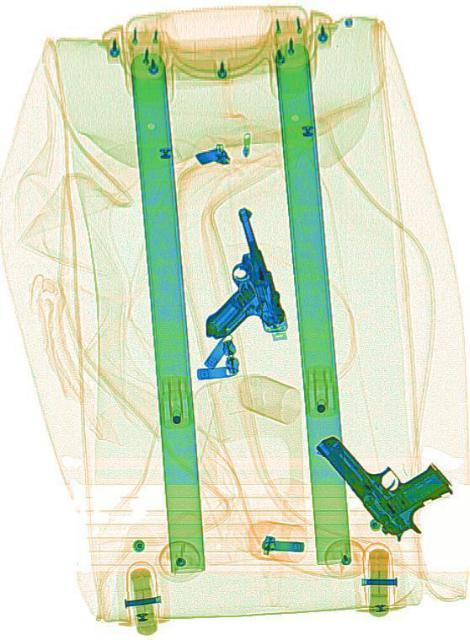Gun: (311, 381, 452, 557), (173, 201, 285, 355)
